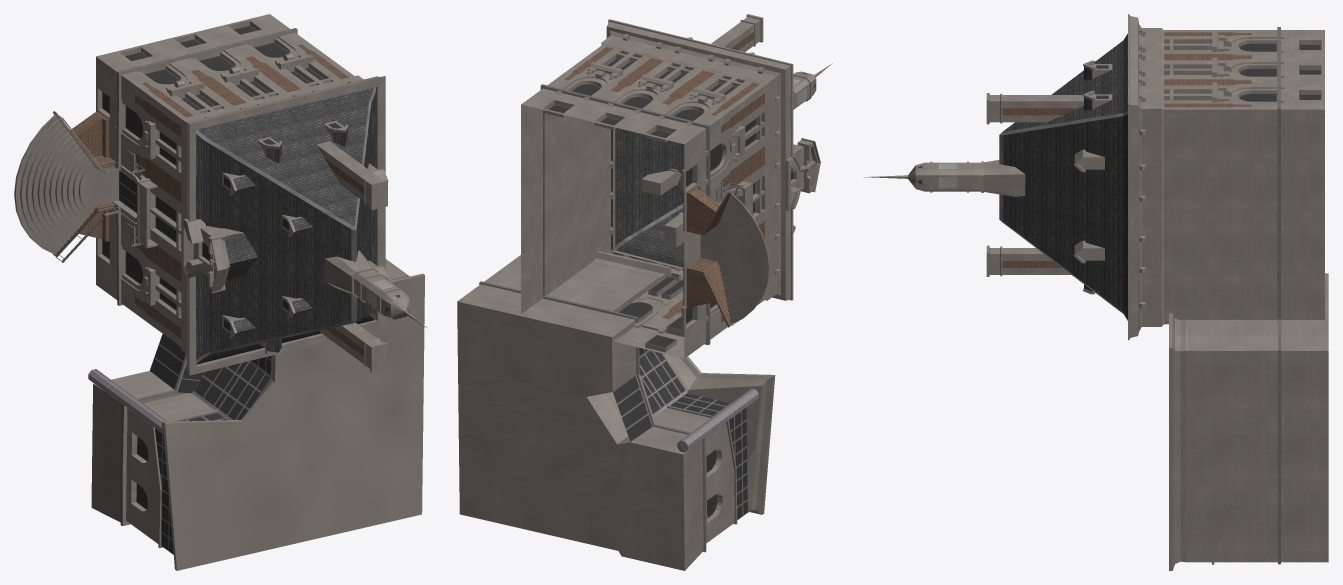
Rendered from LEG-city_hall.obj.
3 views of the same model, side by side, from view 1: azimuth 30°, elevation 25°; view 2: azimuth 150°, elevation 25°; view 3: azimuth 270°, elevation 25° (orthographic). The views are drawn at different scales.
Visible parts, largest first — view 1: GEO-city_hall; view 2: GEO-city_hall; view 3: GEO-city_hall.
Part boxes in pixels (x1=…): GEO-city_hall: x1=14, y1=14, x2=426, y2=570; GEO-city_hall: x1=457, y1=14, x2=832, y2=570; GEO-city_hall: x1=863, y1=14, x2=1328, y2=570.
Bounding box in the file's own units: 22.19 × 29.9 × 28.7.
Materials: 5 (5 with a texture image).
